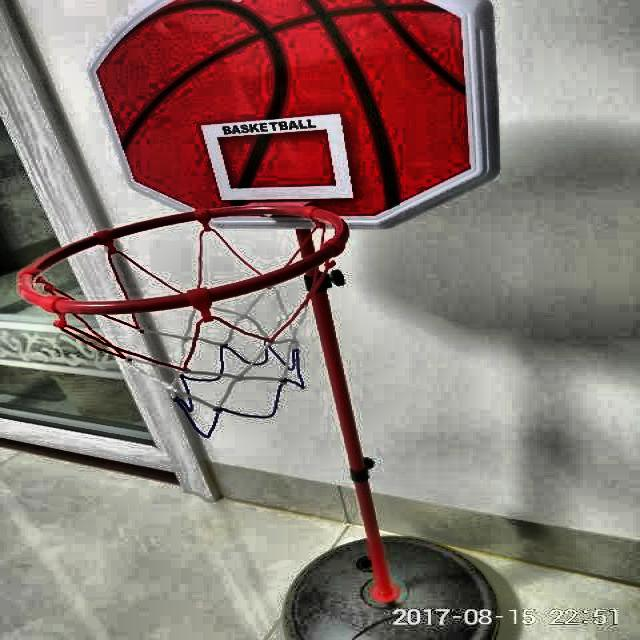rim: (18, 205, 350, 430)
